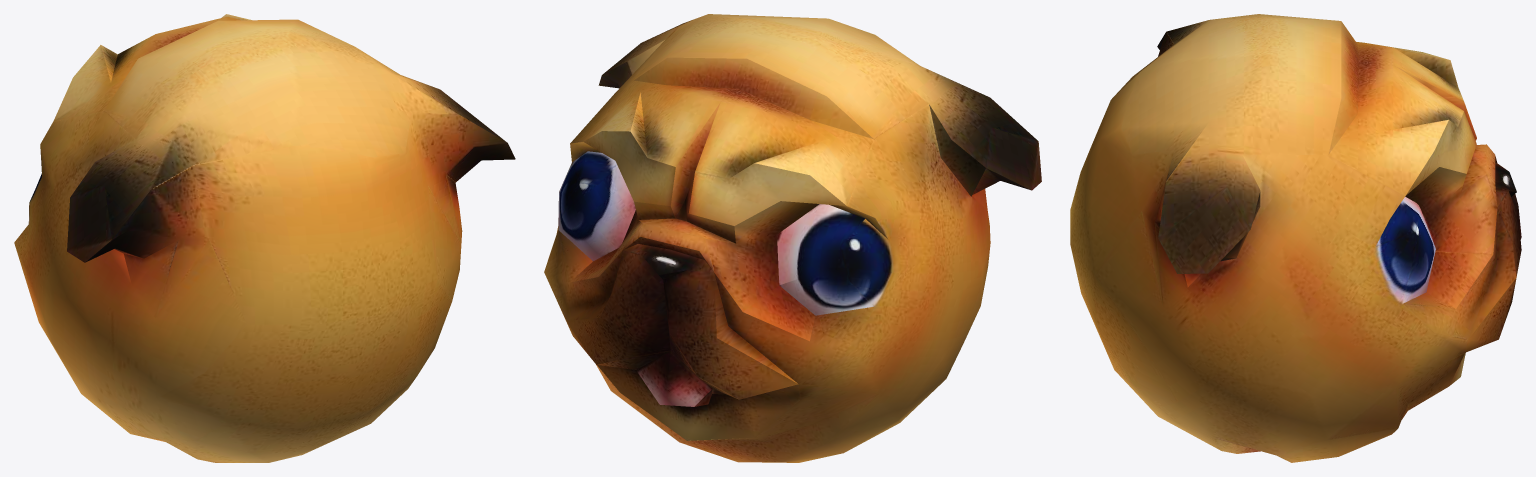
The model's file is mops.fbx.
The picture shows the model from 3 angles, left to right: view 1: azimuth 30°, elevation 25°; view 2: azimuth 150°, elevation 25°; view 3: azimuth 270°, elevation 25°; orthographic projection.
Visible parts, largest first — view 1: Polygon_Reduction_1; view 2: Polygon_Reduction_1; view 3: Polygon_Reduction_1.
Part boxes in pixels (bbox=[...]): Polygon_Reduction_1: bbox=[14, 14, 515, 462]; Polygon_Reduction_1: bbox=[544, 14, 1041, 462]; Polygon_Reduction_1: bbox=[1070, 14, 1521, 462].
Bounding box in the file's own units: 228 × 205 × 207.
Materials: 1 (1 with a texture image).
